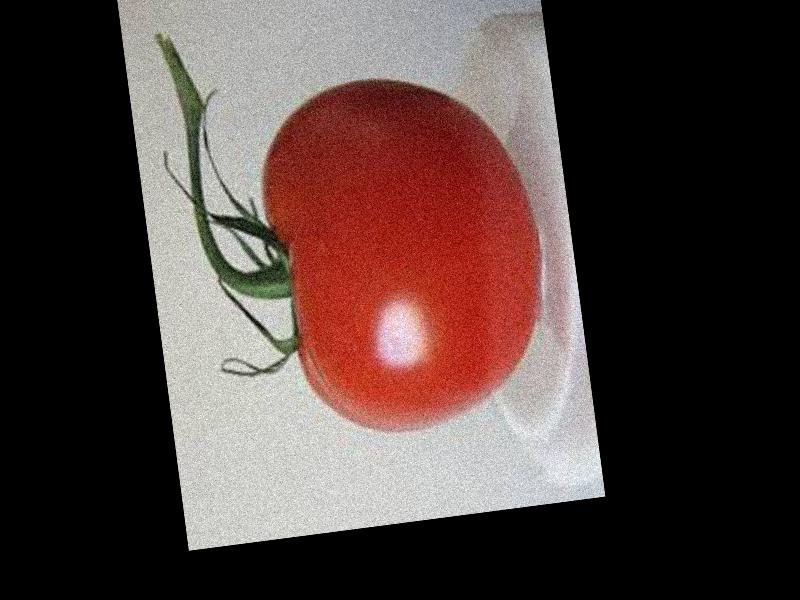Tomato: (250, 60, 559, 445)
